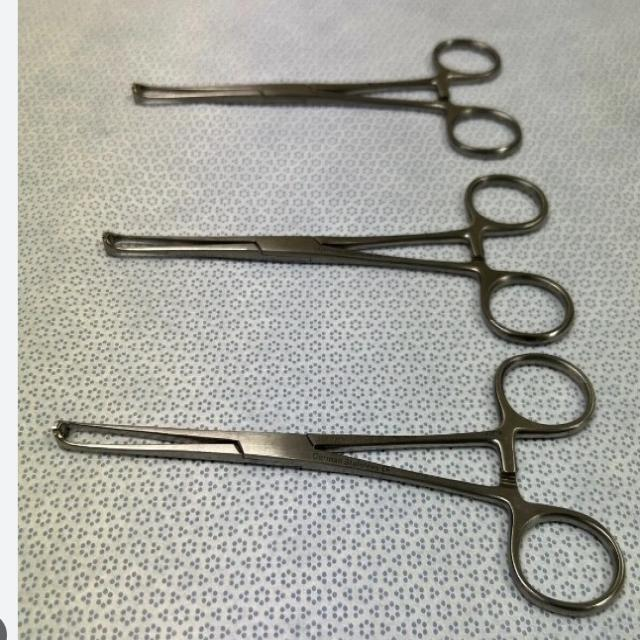Allis Forceps: (55, 347, 630, 623), (97, 168, 576, 350), (125, 28, 530, 166)
